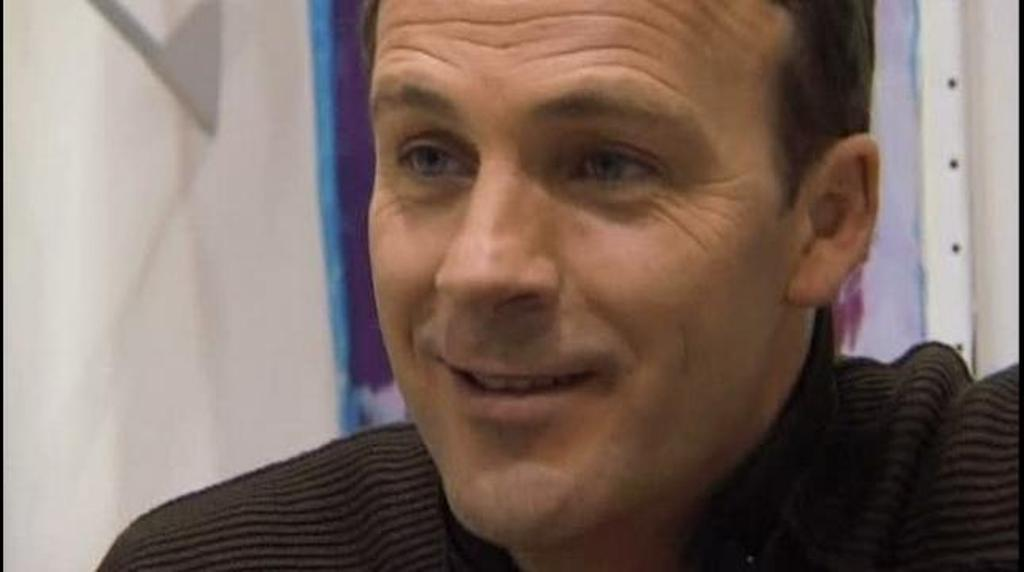face: (372, 2, 798, 542)
